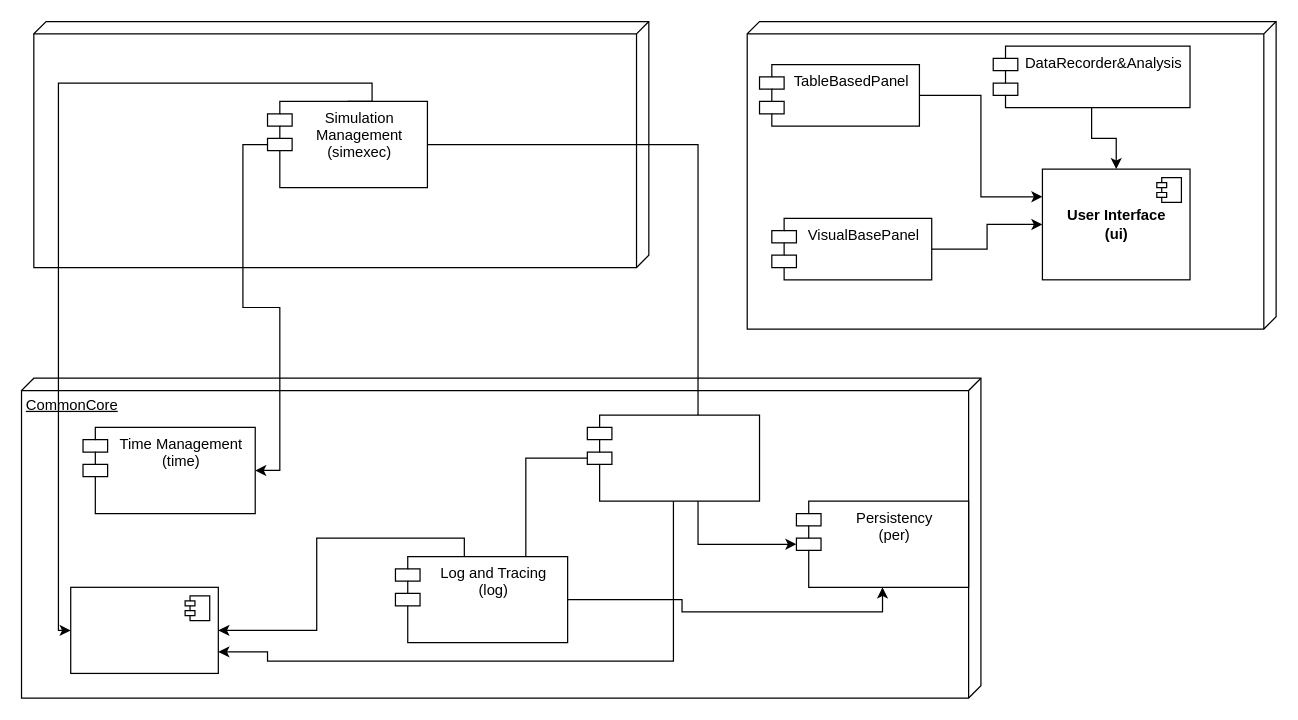
This 1298x720 diagram has some shape labels left out. The shapes that lost their labels are listed below. From the top down, each one's box as (x1, y1, x2, y2) in pixels, then its label:
(33, 20, 649, 268): SimKernel
(746, 20, 1276, 329): Client
(586, 414, 760, 501): Communication Management (com)
(69, 586, 218, 673): Common (cmn)
